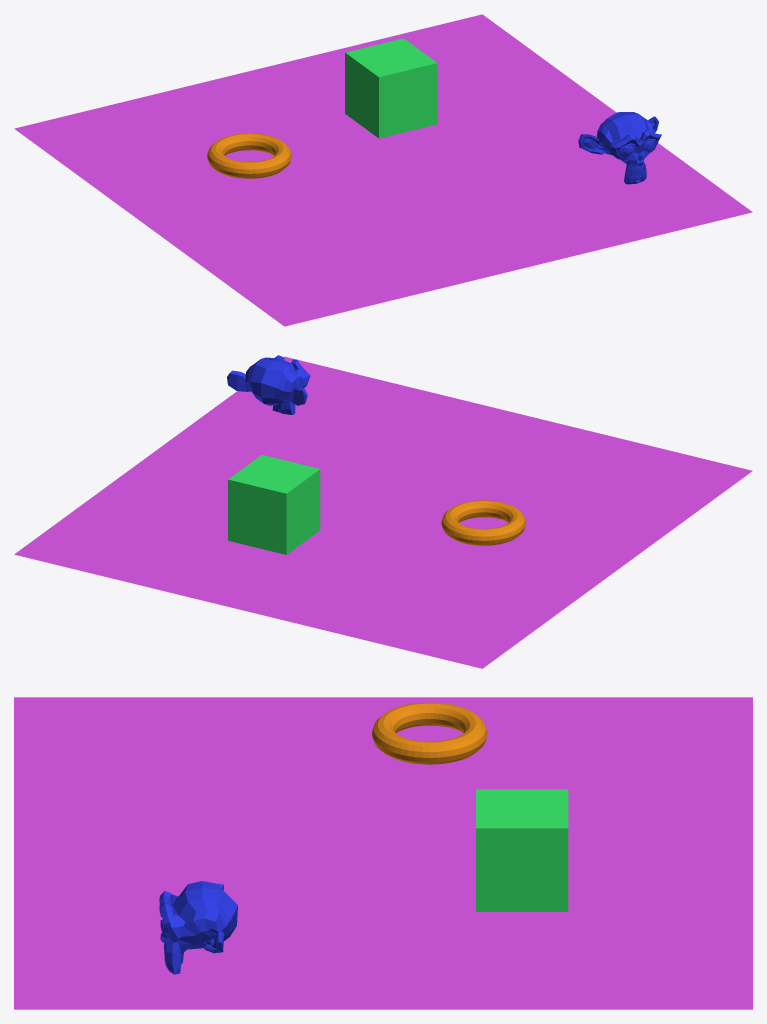
The picture shows the model from 3 angles, top to bottom: view 1: azimuth 30°, elevation 25°; view 2: azimuth 150°, elevation 25°; view 3: azimuth 270°, elevation 25°; orthographic projection. The views are drawn at different scales.
Visible parts, largest first — view 1: Plane, Cube, Suzanne, Torus.001; view 2: Plane, Cube, Suzanne, Torus.001; view 3: Plane, Cube, Torus.001, Suzanne.
Boxes of the visible parts, left/top/right/bottom form: Plane: left=14, top=14, right=752, bottom=326; Cube: left=345, top=38, right=437, bottom=138; Suzanne: left=578, top=112, right=661, bottom=184; Torus.001: left=207, top=133, right=291, bottom=178; Plane: left=14, top=356, right=752, bottom=668; Cube: left=228, top=455, right=320, bottom=554; Suzanne: left=227, top=355, right=310, bottom=414; Torus.001: left=441, top=500, right=525, bottom=545; Plane: left=14, top=697, right=752, bottom=1009; Cube: left=476, top=789, right=568, bottom=911; Torus.001: left=372, top=702, right=487, bottom=764; Suzanne: left=159, top=881, right=237, bottom=974.
Bounding box in the file's own units: 16 × 2 × 16.
